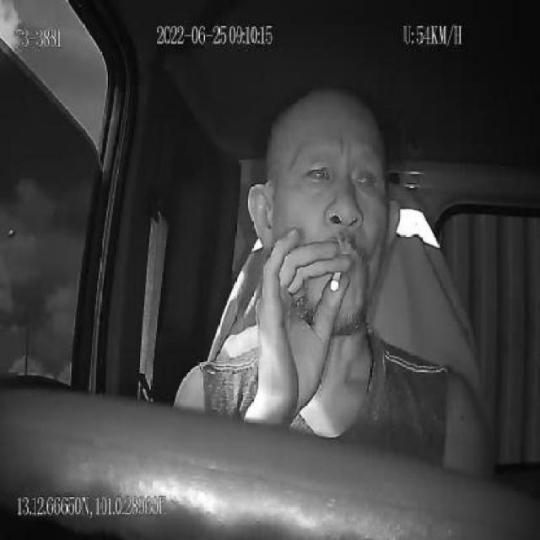smoking: (330, 266, 343, 291)
